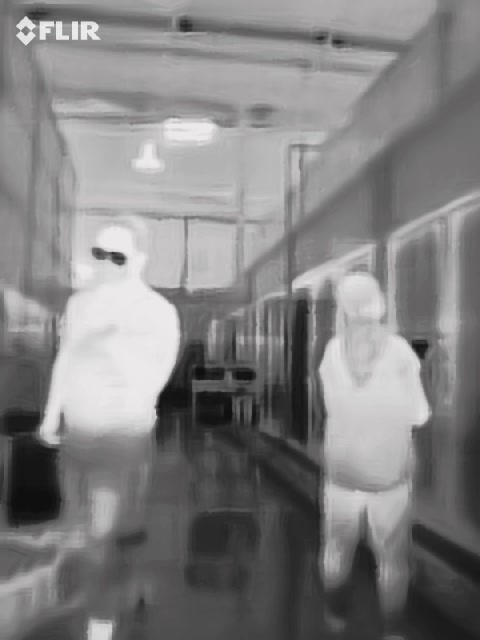head: (89, 217, 150, 295)
